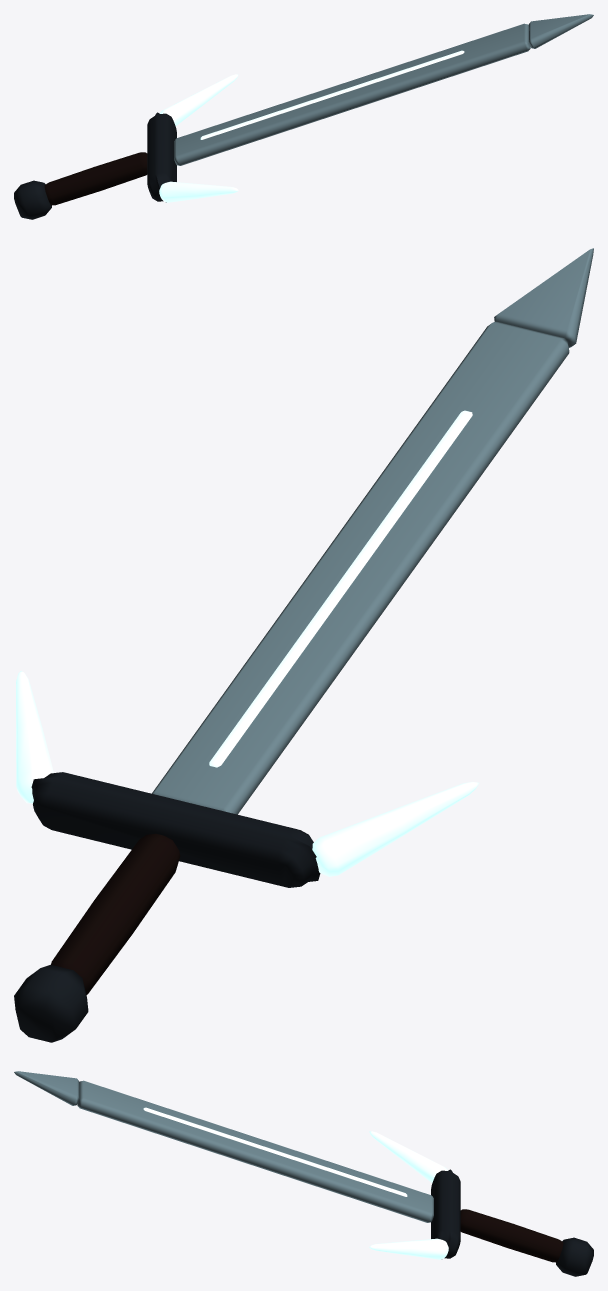
Rendered from Arma_LaminaRunicaCurta.fbx.
3 renders of one model, top to bottom at view 1: azimuth 90°, elevation 25°; view 2: azimuth 150°, elevation 25°; view 3: azimuth 270°, elevation 25°, orthographic. The views are drawn at different scales.
Parts seen in each view (by area): view 1: Piece; view 2: Piece; view 3: Piece.
Part boxes in pixels (left/top/right/bottom): Piece: left=14, top=14, right=593, bottom=219; Piece: left=14, top=248, right=593, bottom=1042; Piece: left=14, top=1071, right=593, bottom=1276.
Size of the model in its own units: 0.3987 by 0.326 by 0.8449.
